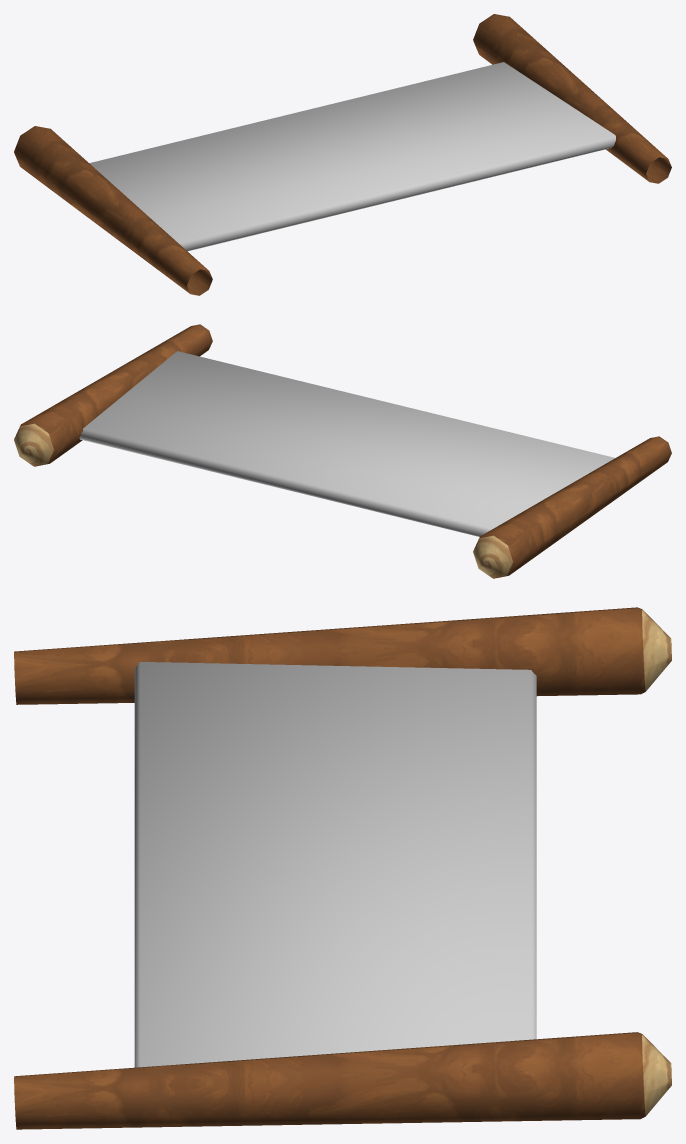
The model's file is Platform1.fbx.
3 views of the same model, one above another, from view 1: azimuth 30°, elevation 25°; view 2: azimuth 150°, elevation 25°; view 3: azimuth 270°, elevation 25° (orthographic). The views are drawn at different scales.
Visible parts, largest first — view 1: PlatformLong; view 2: PlatformLong; view 3: PlatformLong.
Part boxes in pixels (box(x1,y1,x2,y2)): PlatformLong: box(14, 14, 671, 295); PlatformLong: box(14, 324, 671, 578); PlatformLong: box(14, 607, 671, 1129).
Bounding box in the file's own units: 54.56 × 5.21 × 32.71.
